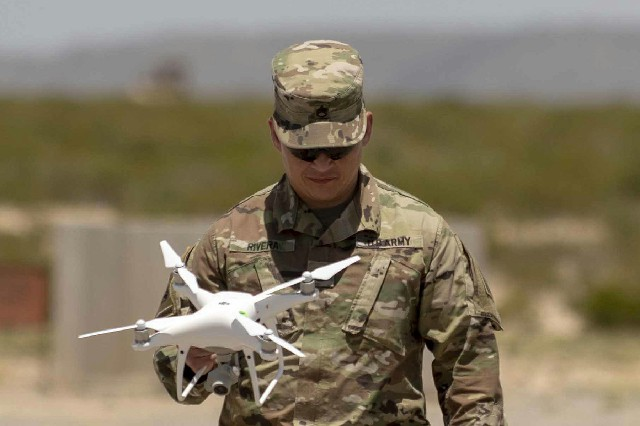maybay_khongnguoilai: (105, 232, 357, 405)
